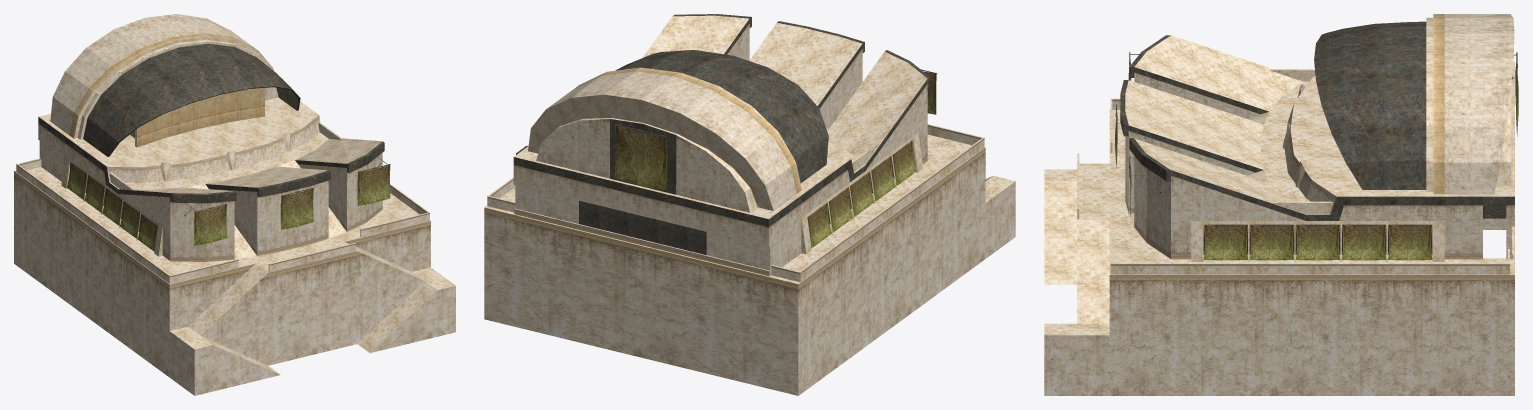
The model's file is ply_tato_theater_s01_r0_exterior_mesh_l0.fbx.
3 views of the same model, side by side, from view 1: azimuth 30°, elevation 25°; view 2: azimuth 150°, elevation 25°; view 3: azimuth 270°, elevation 25° (orthographic). The views are drawn at different scales.
Visible parts, largest first — view 1: mesh_node; view 2: mesh_node; view 3: mesh_node.
Part boxes in pixels (left/top/right/bottom): mesh_node: left=14, top=14, right=455, bottom=395; mesh_node: left=484, top=14, right=1015, bottom=395; mesh_node: left=1044, top=14, right=1518, bottom=395.
Bounding box in the file's own units: 25.6 × 20.05 × 30.91.
